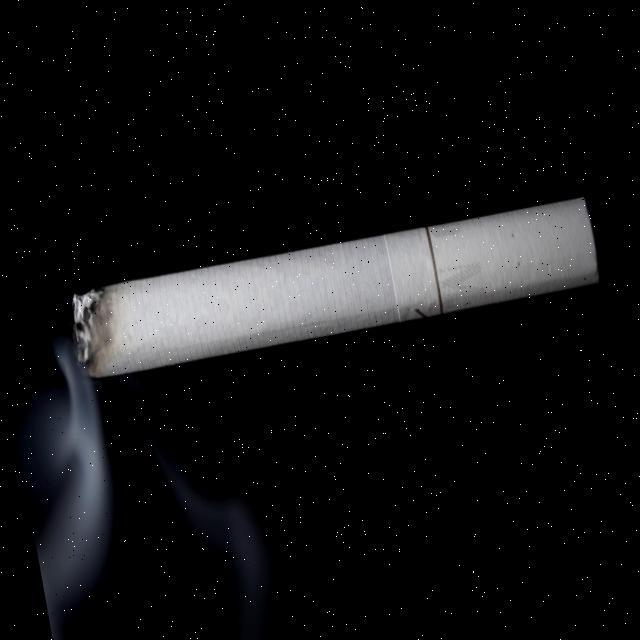cigarette: (58, 190, 602, 384)
